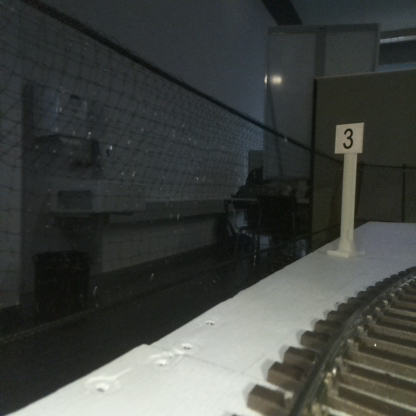white-info-3: (336, 123, 361, 256)
